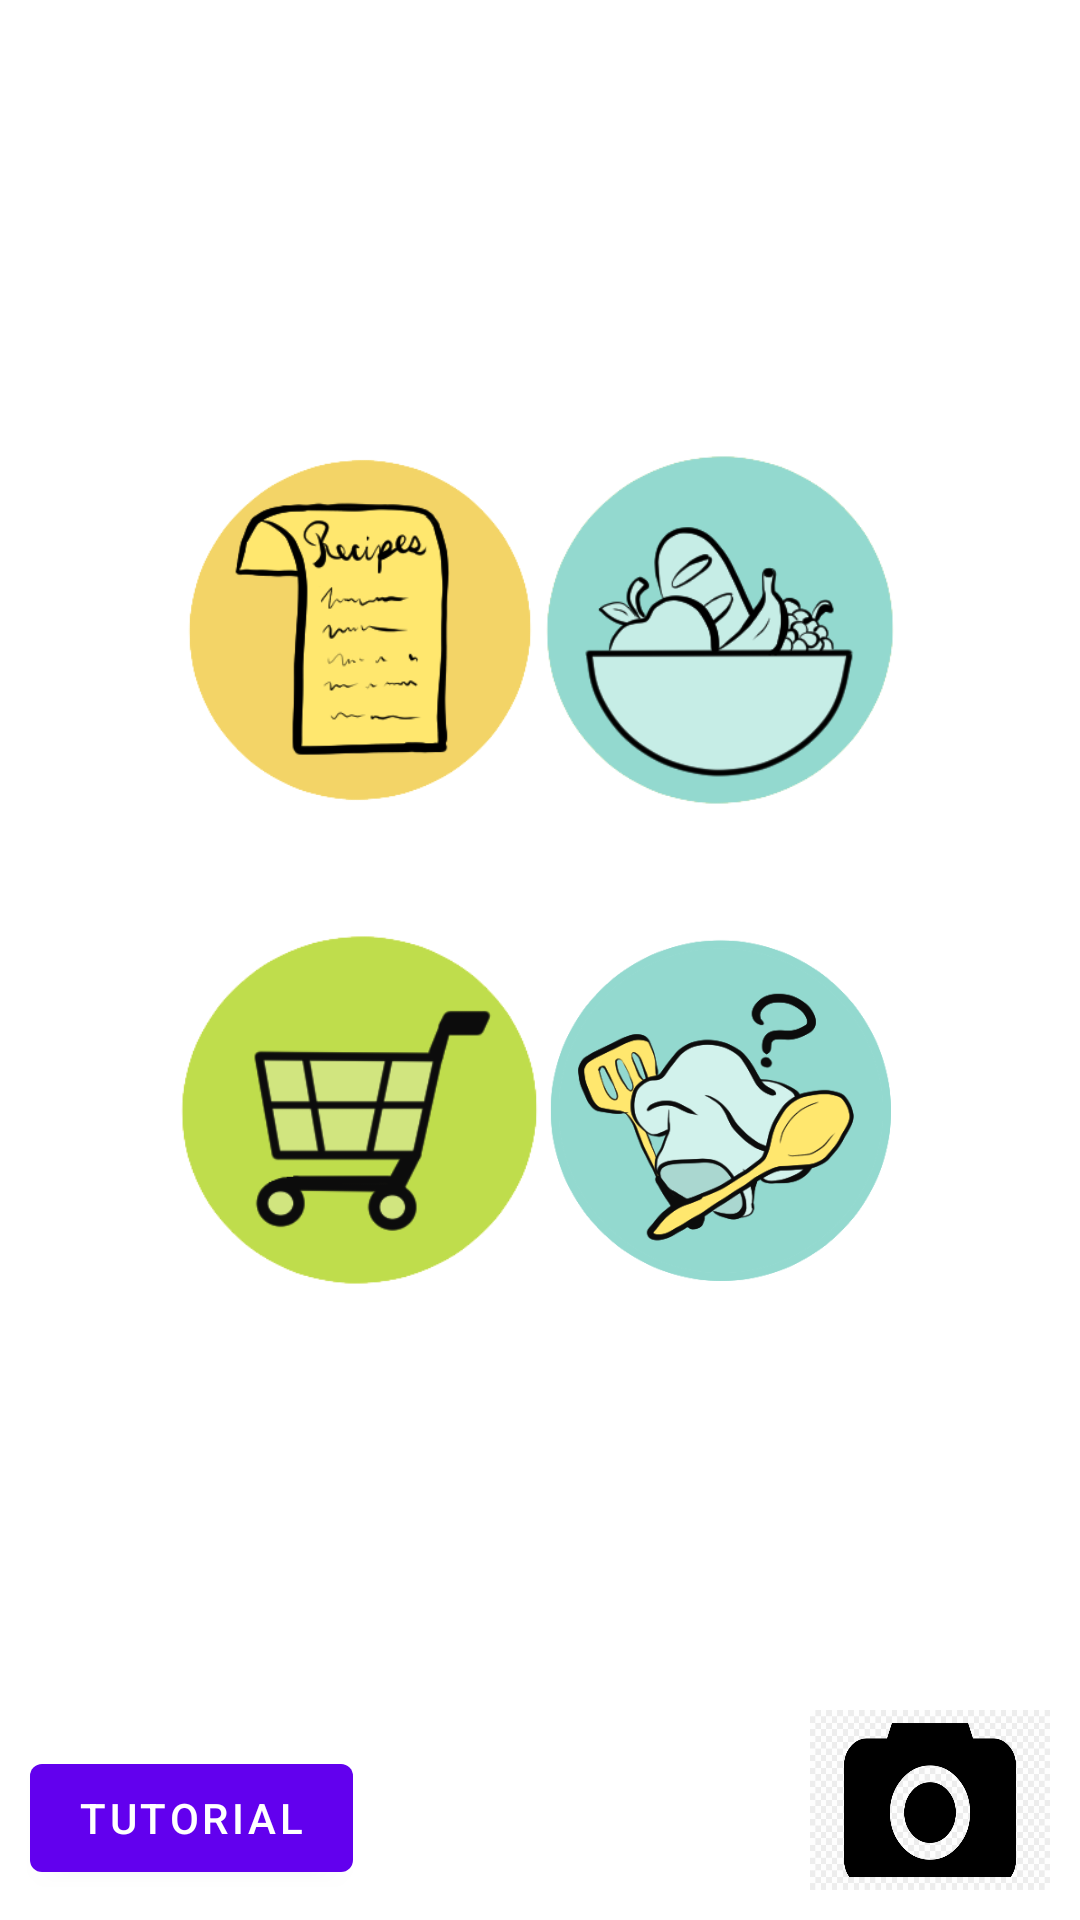

Icon bounding boxes for this 1080x1920 phone screenshot, format box=[x1, y1, x2, y2]:
camera: box=[844, 1723, 1016, 1877]
grocery list: box=[182, 936, 537, 1284]
pantry: box=[547, 456, 893, 804]
